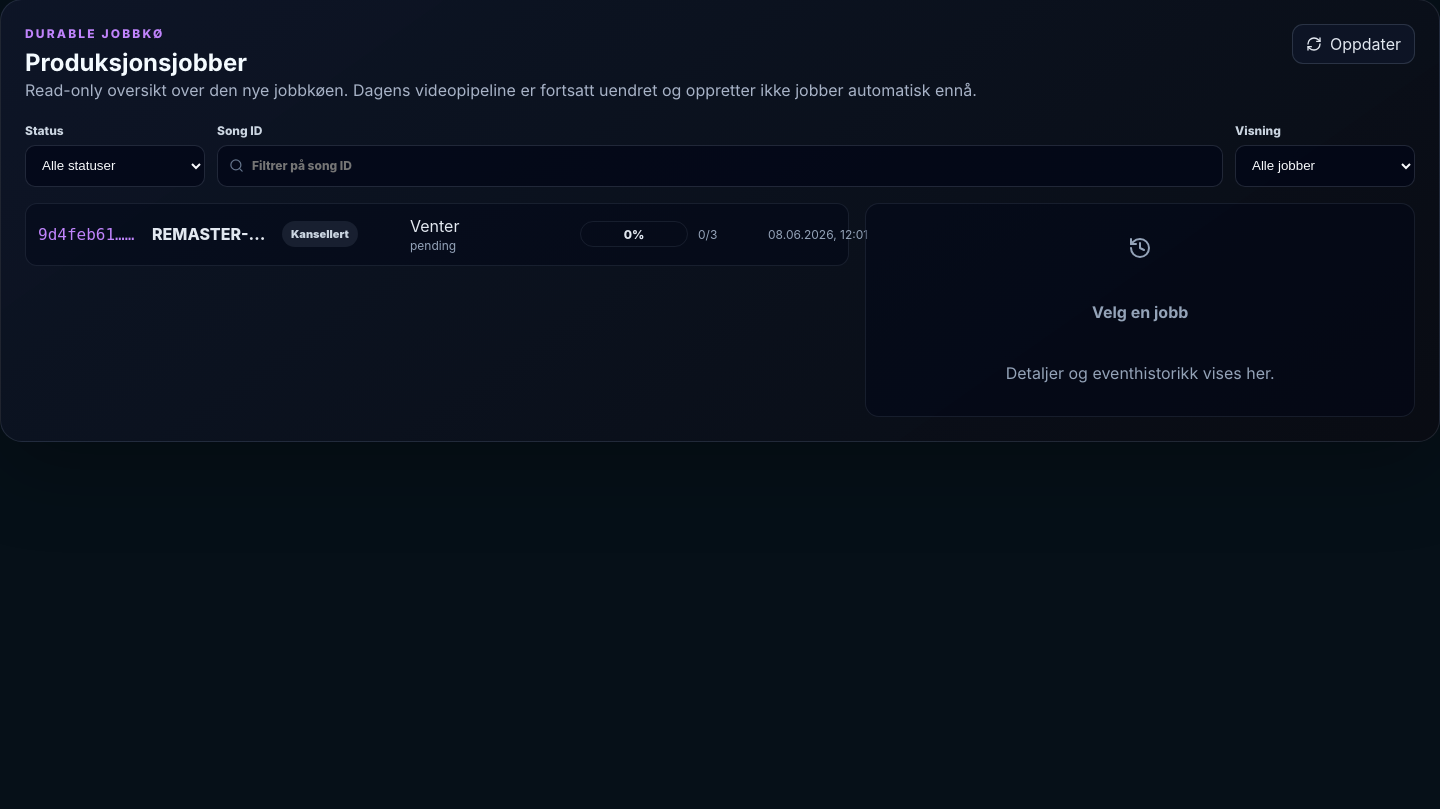
Test: AdminJobs › opens job details and shows events in sequence order
The width and height of the screenshot is (1440, 809).
What coordinates should you click on to do the following:
click the text "REMASTER-SCHEMA-SMOKE-20260608-test"
I would click on:
 (212, 234)
Its box is x1=152 y1=224 x2=272 y2=244.
(page scrolled)
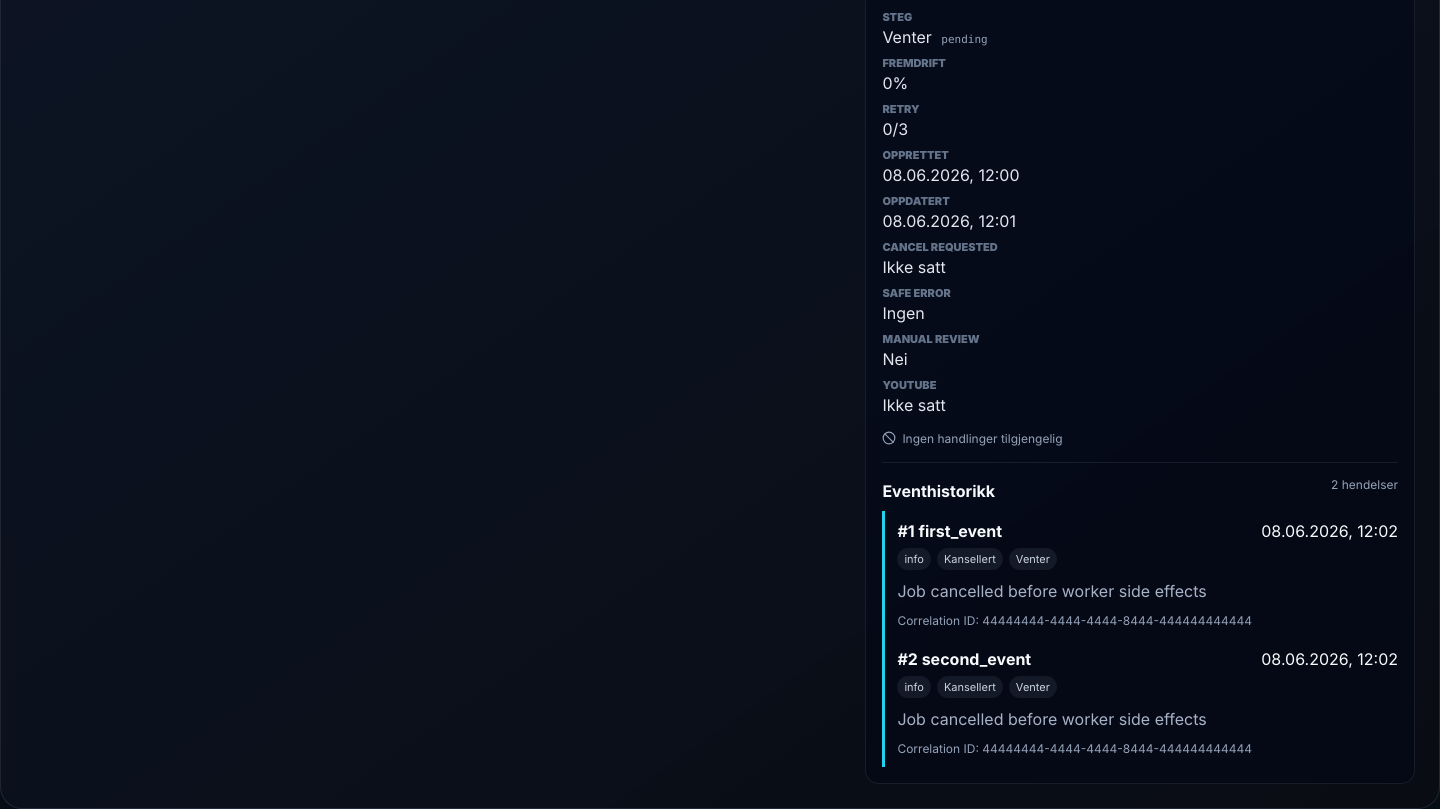
Now the text "Correlation ID: 44444444-4444-4444-8444-444444444444" below "first_event" is shown, box x1=897 y1=613 x2=982 y2=628
